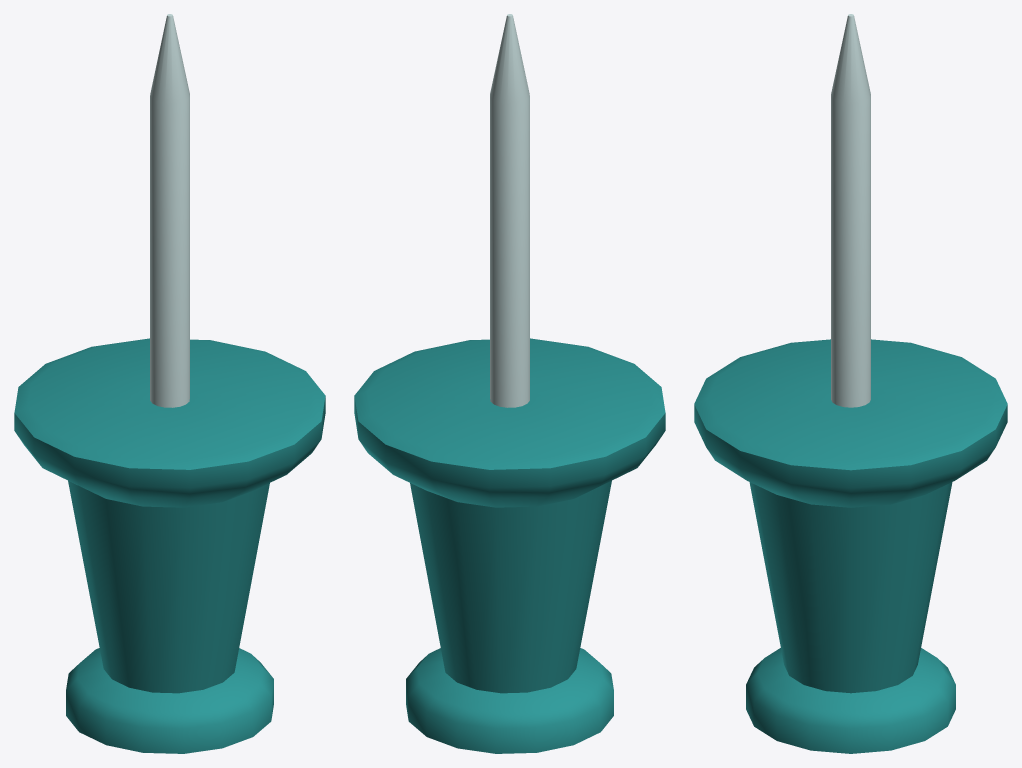
The model's file is SM_Thumbtack.FBX.
The picture shows the model from 3 angles, left to right: view 1: azimuth 30°, elevation 25°; view 2: azimuth 150°, elevation 25°; view 3: azimuth 270°, elevation 25°; orthographic projection.
Visible parts, largest first — view 1: SM_Thumbtack; view 2: SM_Thumbtack; view 3: SM_Thumbtack.
Boxes of the visible parts, left/top/right/bottom form: SM_Thumbtack: left=14, top=14, right=325, bottom=753; SM_Thumbtack: left=354, top=14, right=665, bottom=753; SM_Thumbtack: left=694, top=14, right=1007, bottom=753.
Size of what is drawn, in the model's own units: 10.03 by 24.5 by 10.03.
